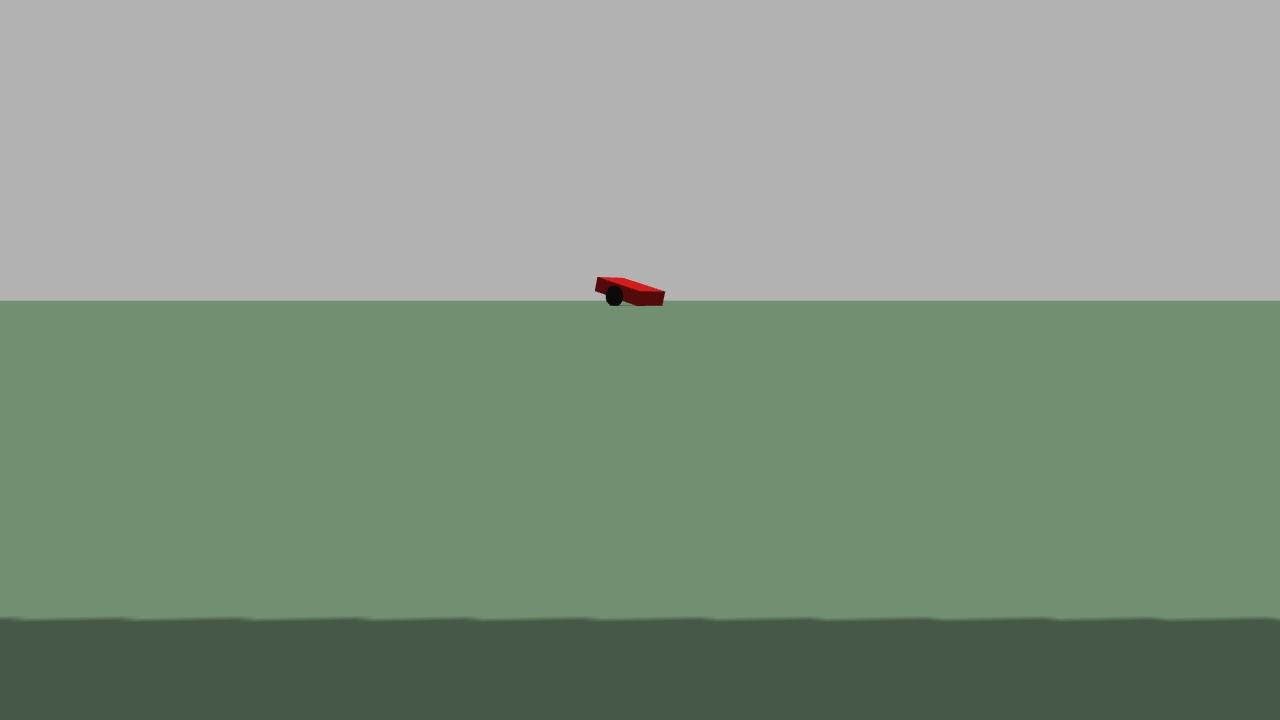ground_vehicle: (587, 266, 676, 315)
